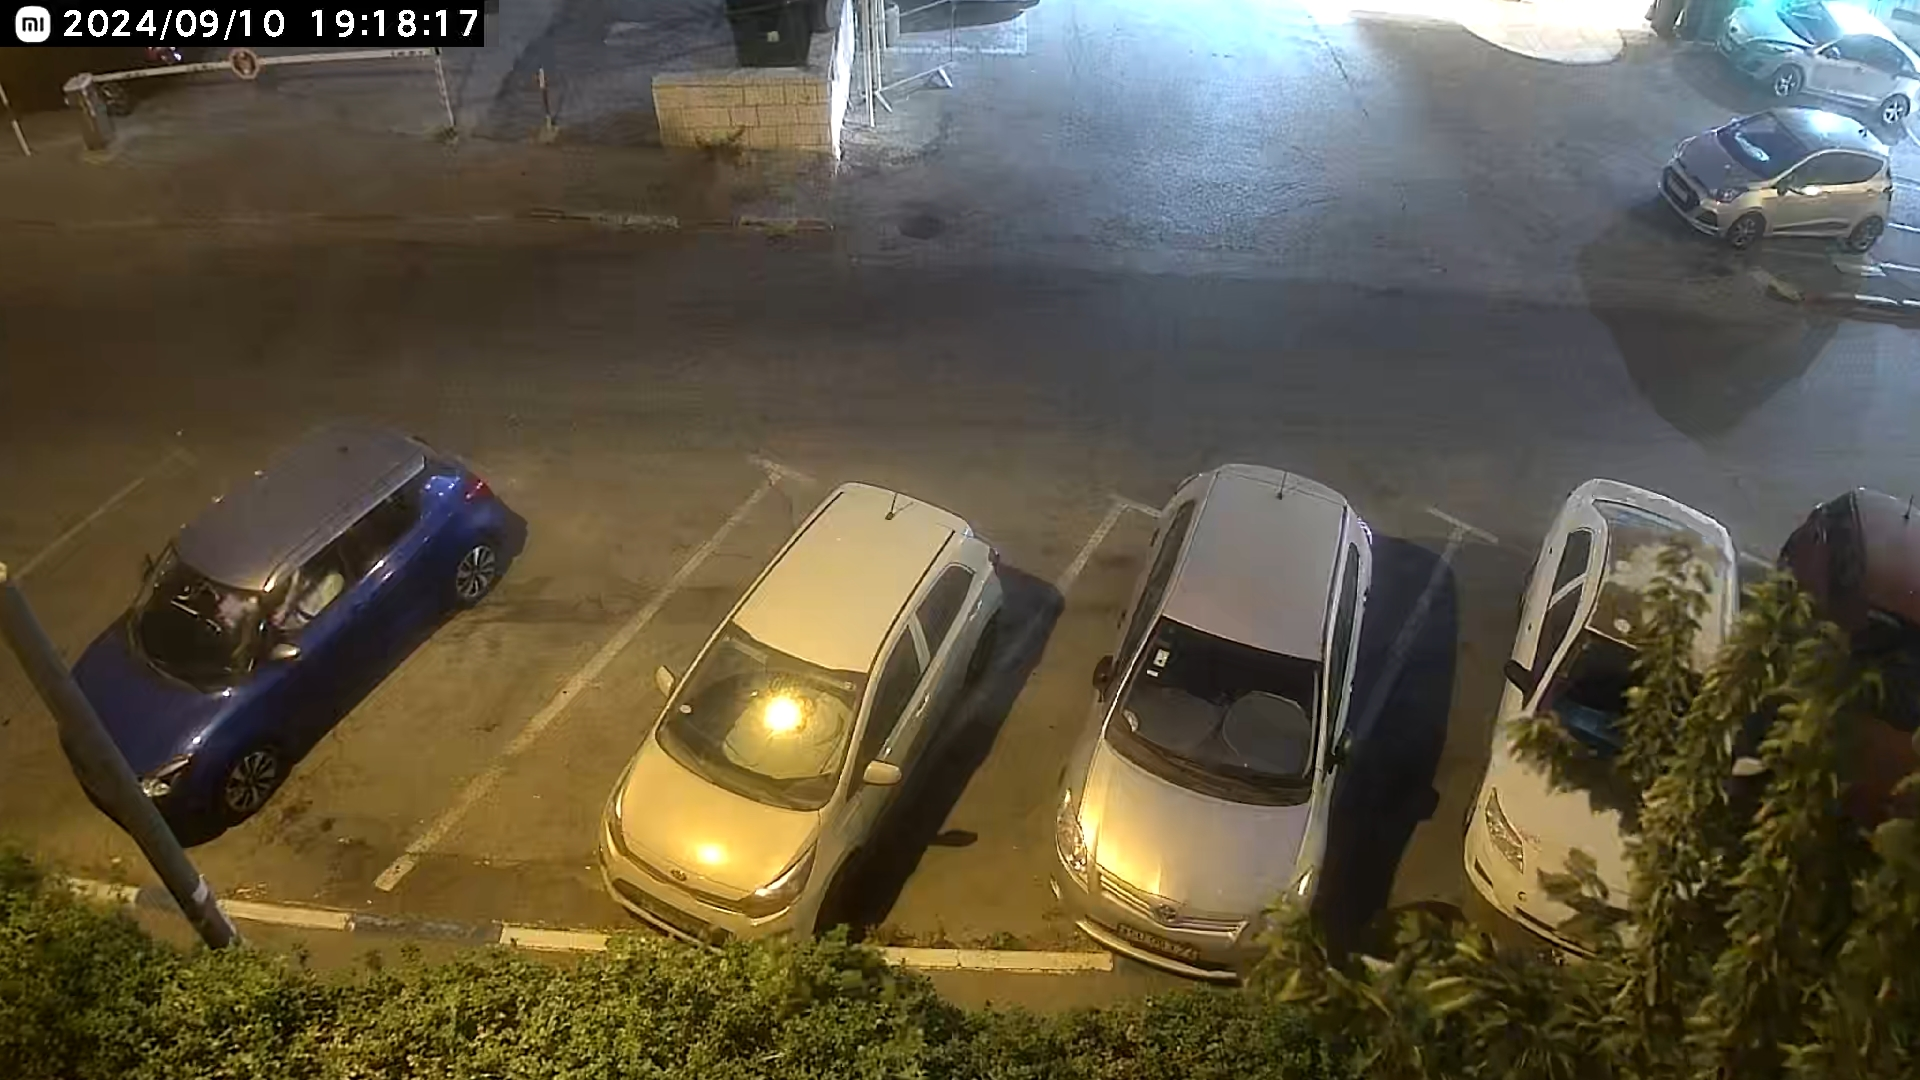empty: (316, 444, 721, 943)
